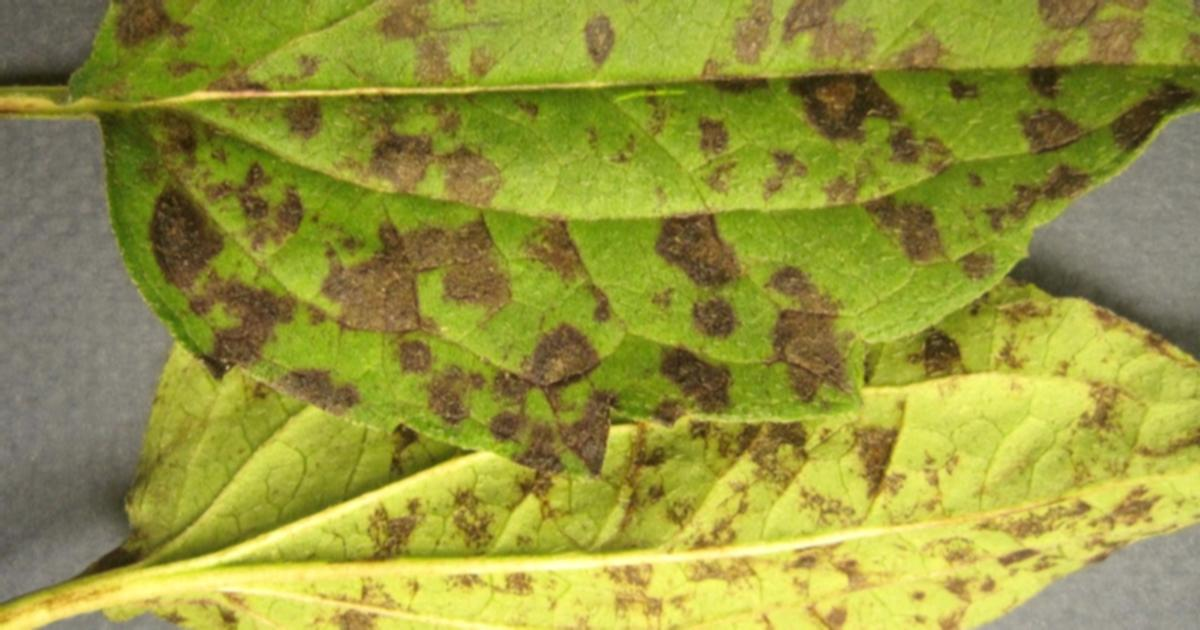Tomato Septoria leaf spot: (42, 0, 1200, 457), (86, 265, 1200, 625)
